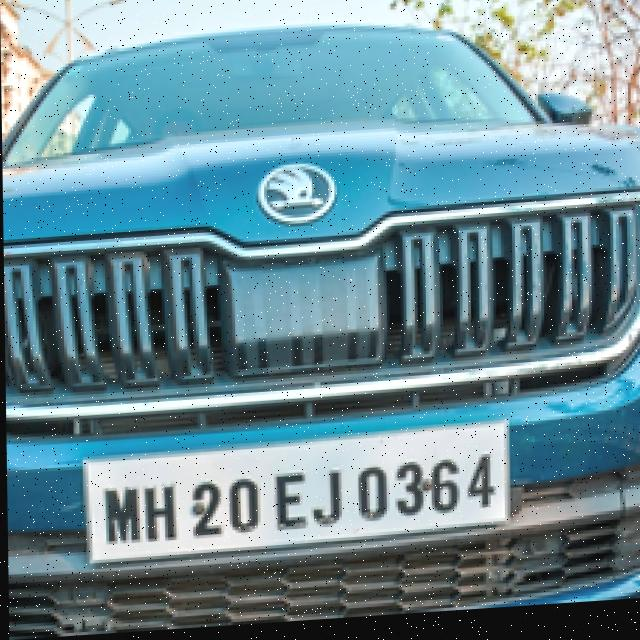plate: (82, 430, 508, 577)
